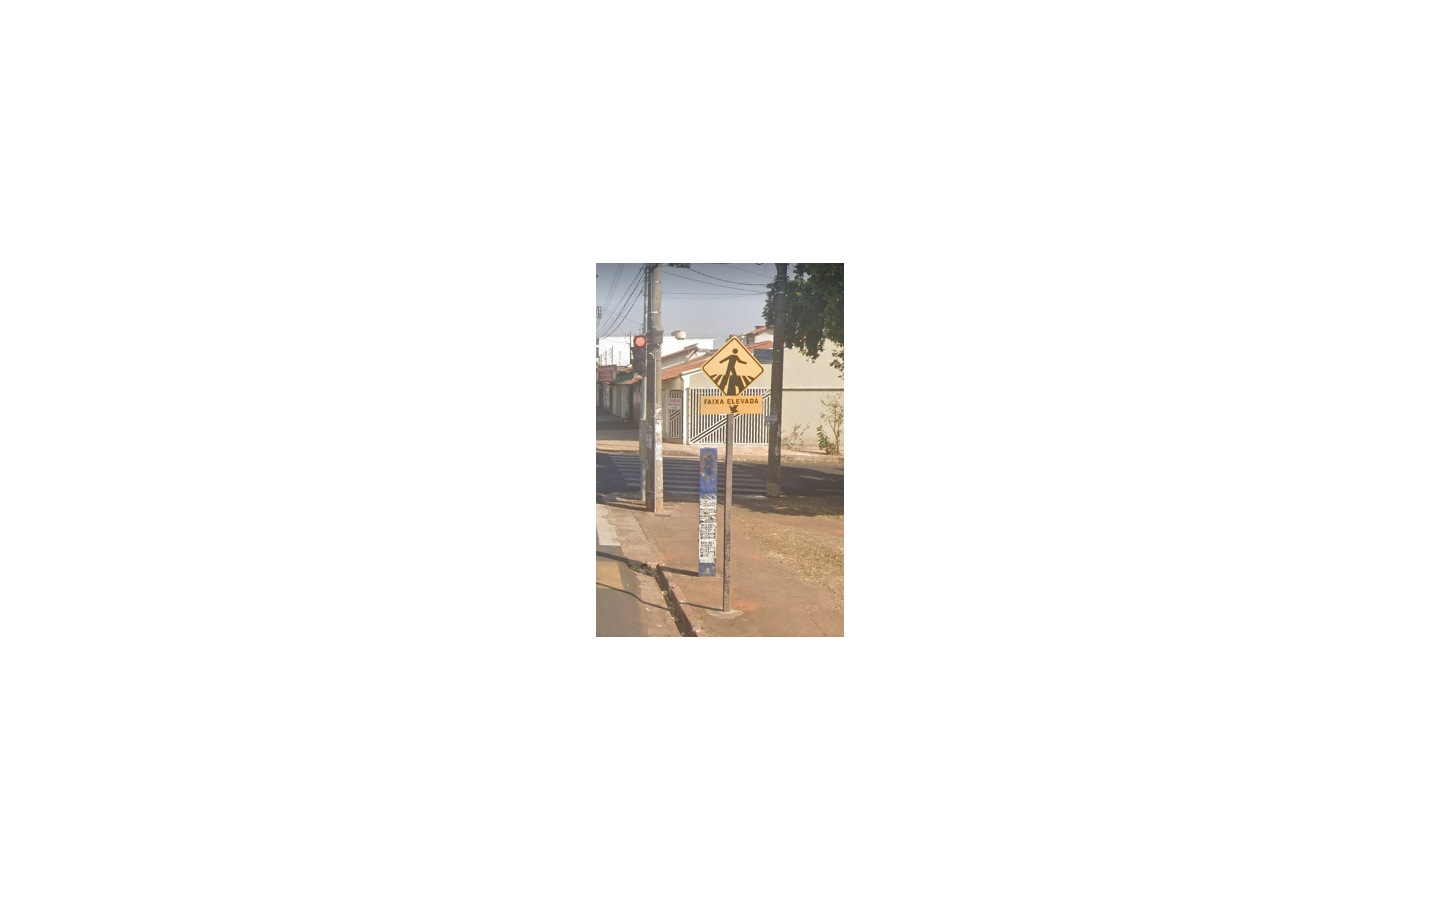telev: (699, 337, 763, 415)
